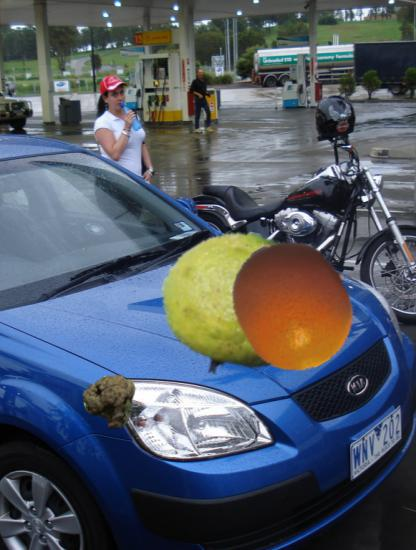Cauliflower: (84, 375, 140, 431)
Grapefruit: (228, 239, 360, 371)
Limes: (160, 230, 310, 380)
